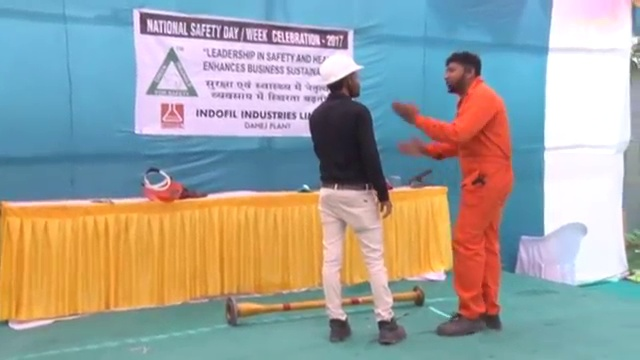helmet: (316, 52, 367, 86)
helmet_off: (443, 52, 484, 93)
helmet_on: (314, 51, 366, 100)
person: (404, 54, 511, 335), (303, 55, 406, 346)
